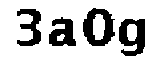0: (82, 3, 115, 49)
3: (12, 5, 44, 49)
a: (48, 13, 79, 50)
g: (116, 17, 149, 59)
